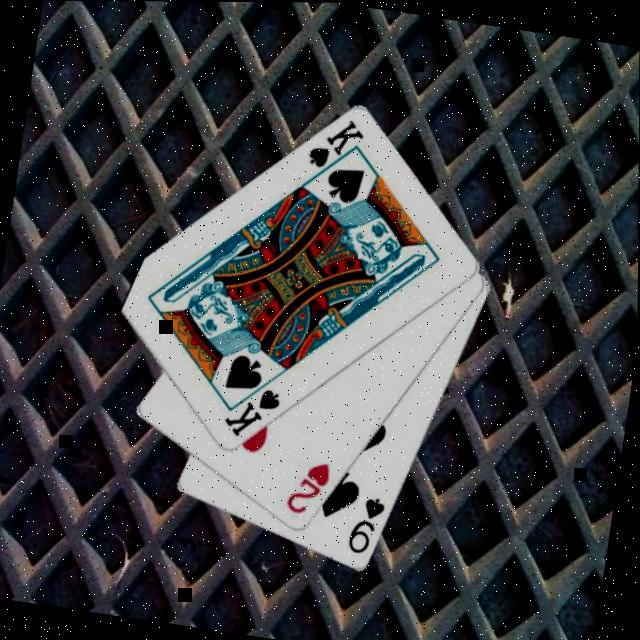2H: (281, 452, 333, 518)
9S: (343, 489, 388, 557)
KS: (300, 110, 367, 186), (218, 377, 284, 443)
